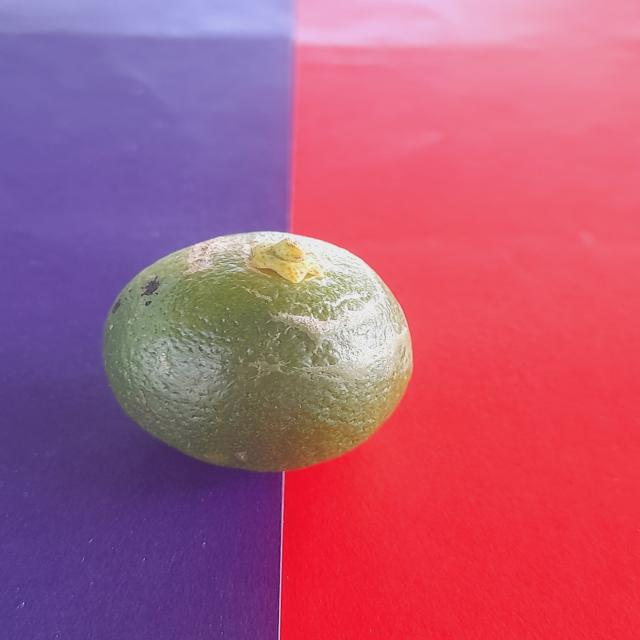thrips: (111, 234, 427, 474)
